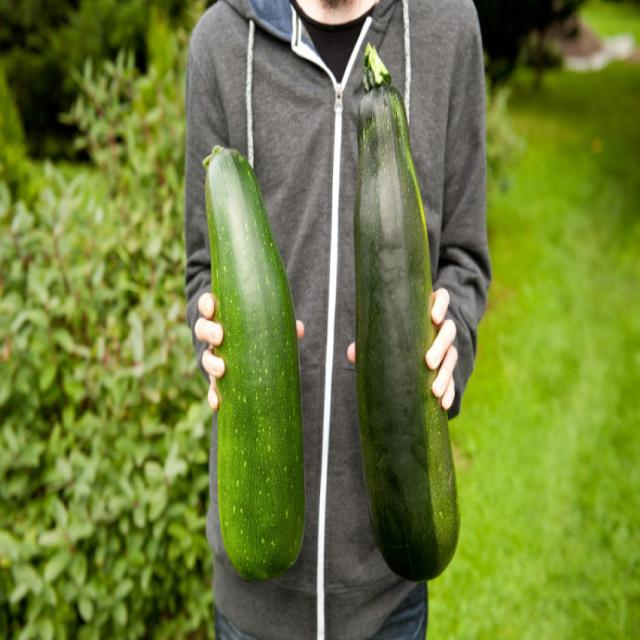Zucchini: (212, 160, 320, 581)
